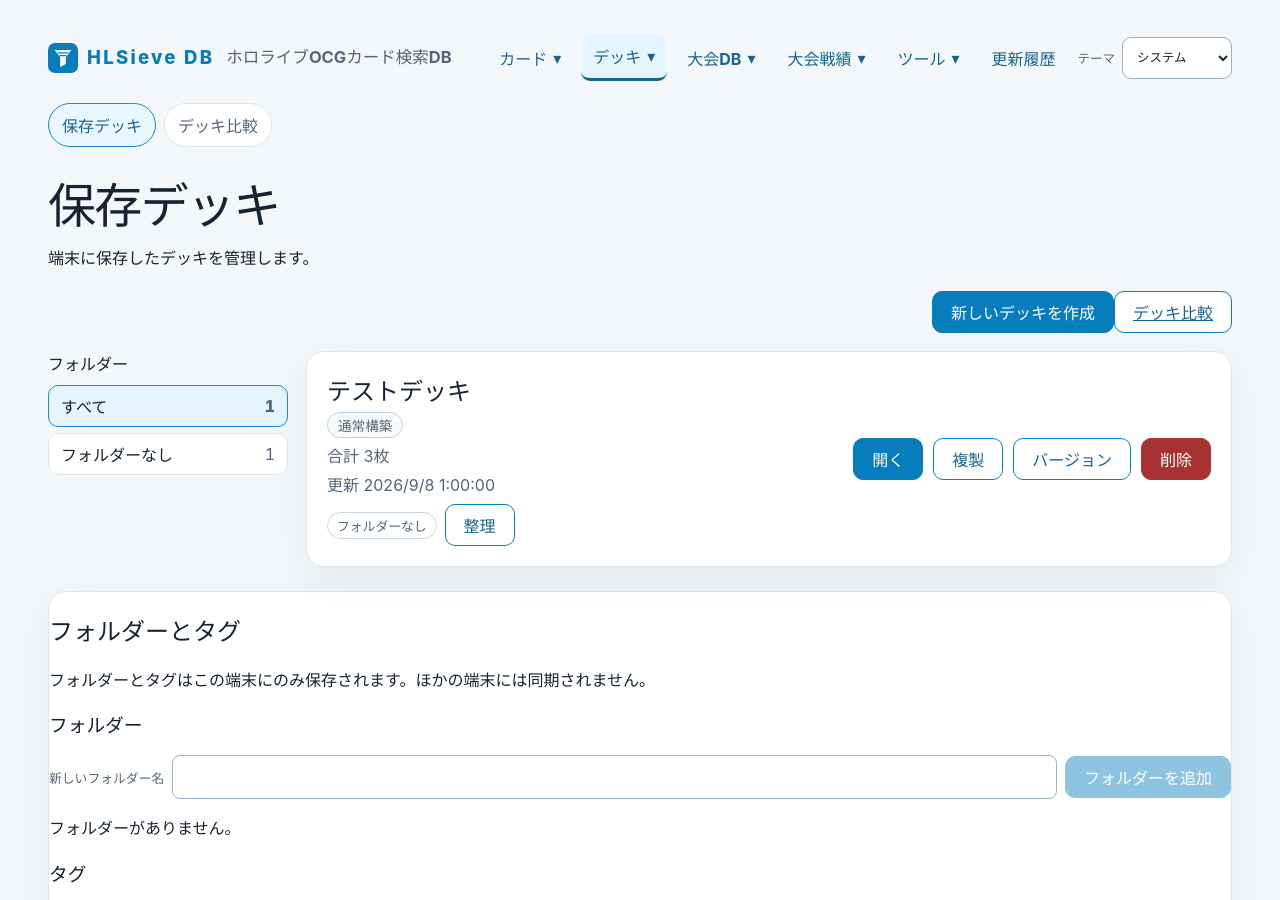
Test: SavedDecksPage › requires confirmation before deleting and supports cancel
Expected: the heading "テストデッキ" is shown, [327, 377, 471, 406]
Click the button with aria-label "テストデッキを削除" at (1176, 459), box [1141, 438, 1211, 480]
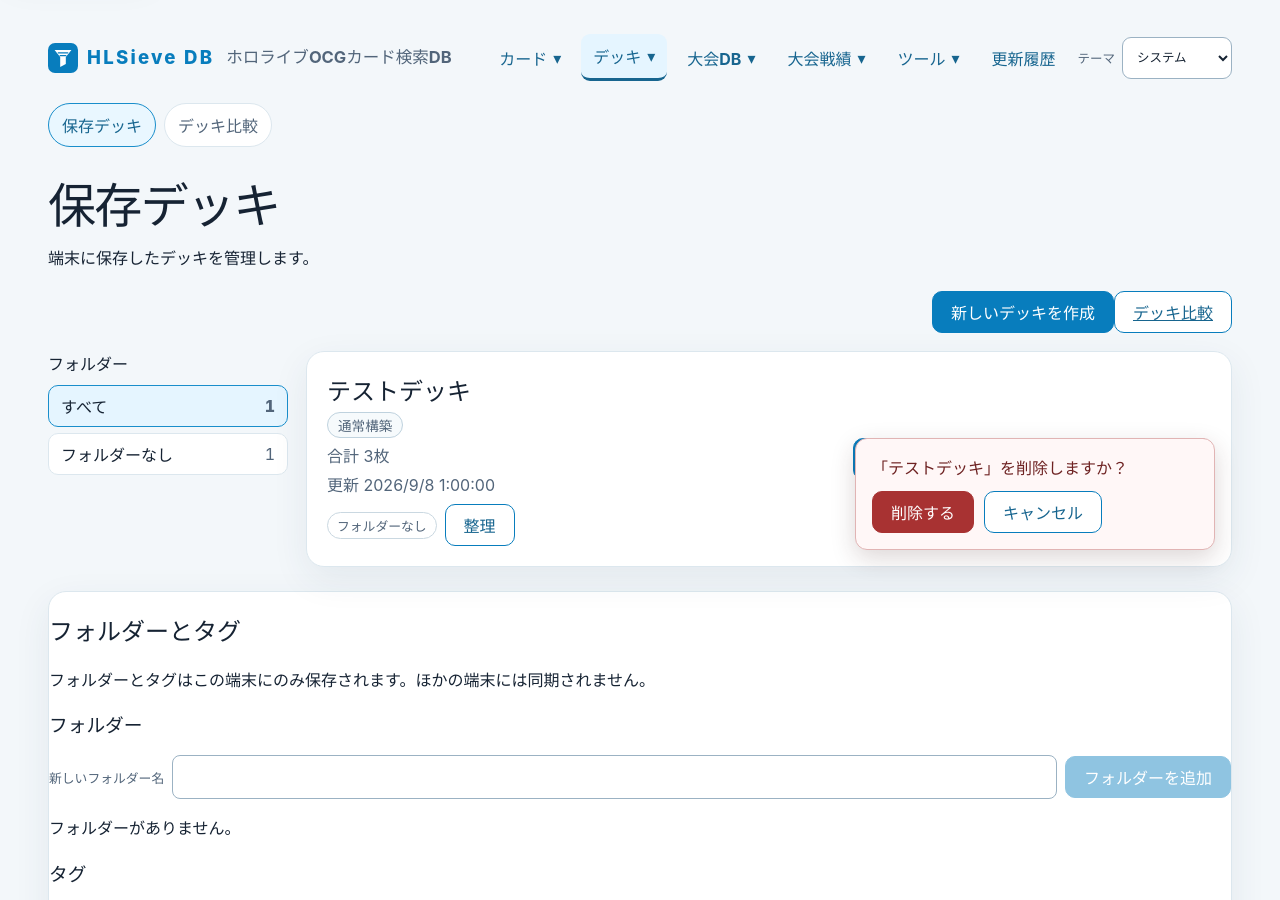
Expected: the dialog shows "「テストデッキ」を削除しますか？", [855, 438, 1215, 550]
Click the button "キャンセル" at (1043, 512), box [984, 491, 1102, 533]
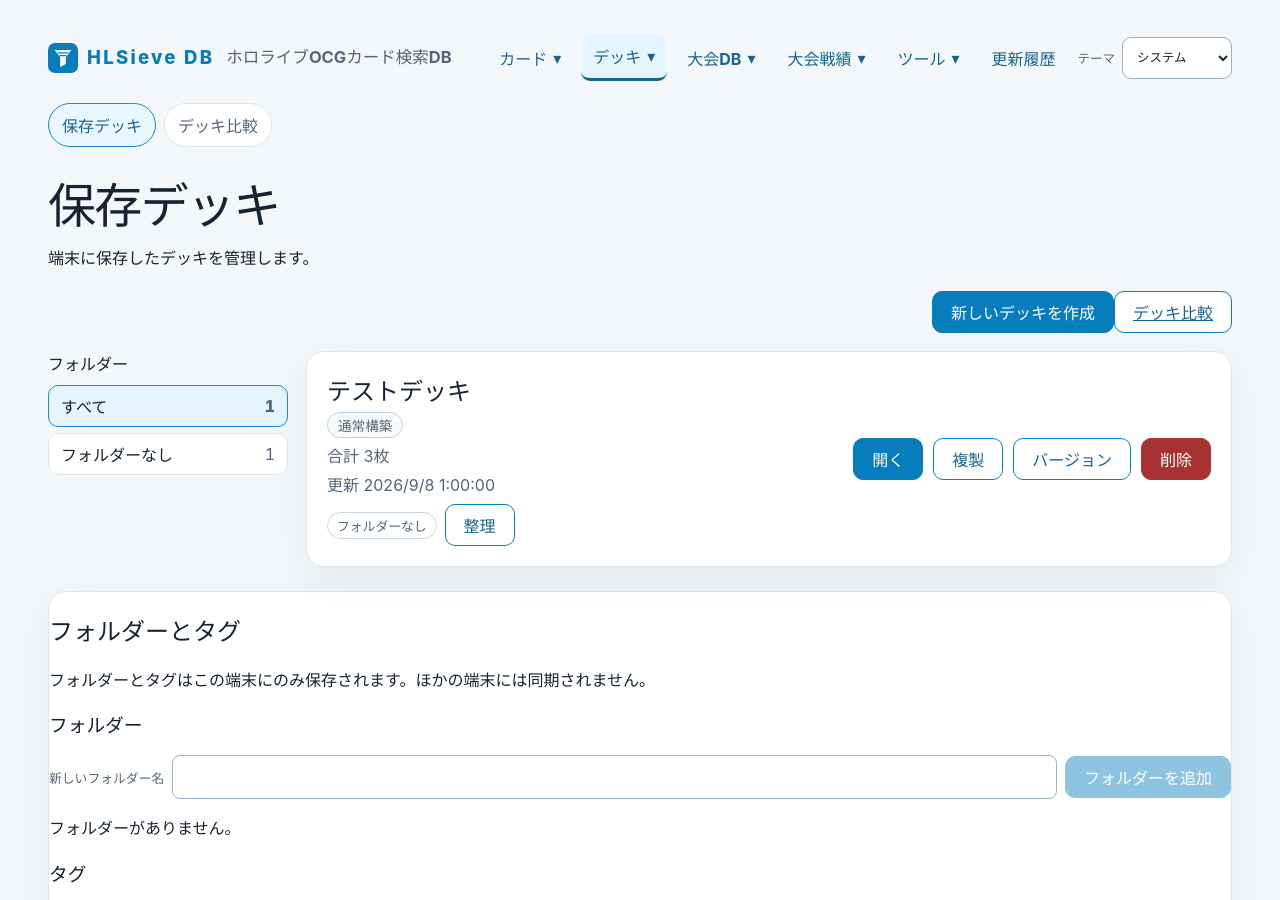
Expected: the dialog is gone
